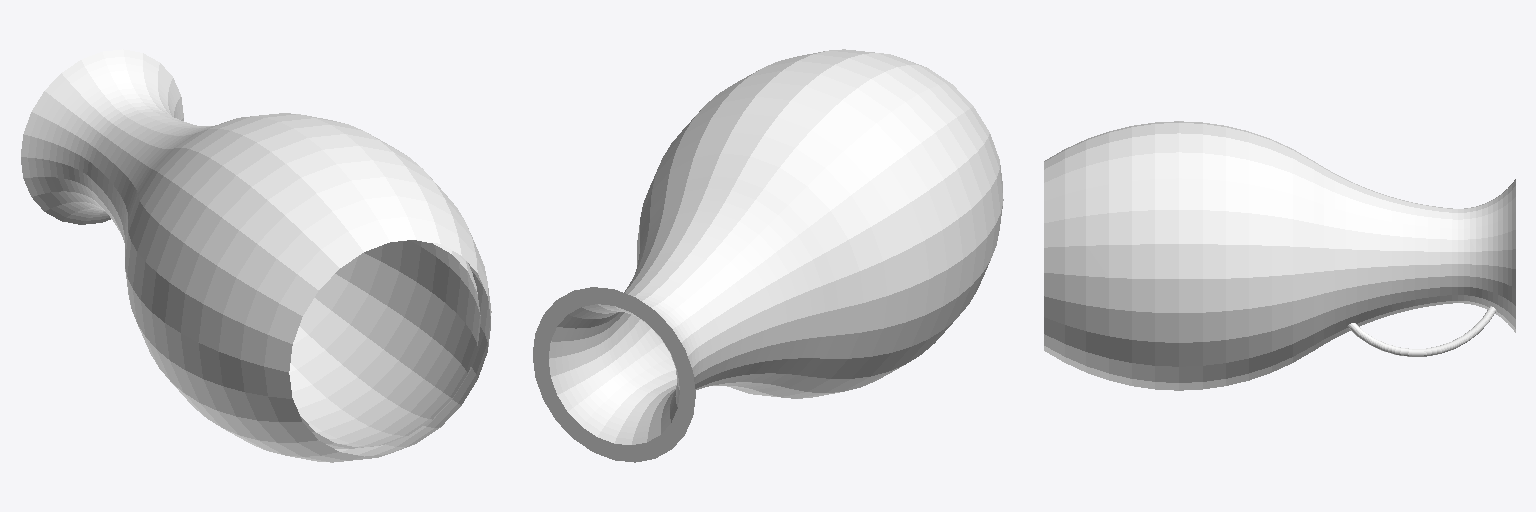
URDF robot description (5cb41c58e0bb0b44deceaec2593e1649):
<robot name="5cb41c58e0bb0b44deceaec2593e1649">
	<link name="_name">
		<visual>
			<origin xyz="0.015713004168289624 0.18046324535949385 -0.01491288898917373" rpy="0 0 0" />
			<geometry>
				<mesh filename="models/model_normalized.obj" scale="1 1 1" />
			</geometry>
			<material name="texture">
				<color rgba="1.0 1.0 1.0 1.0" />
			</material>
		</visual>
		<collision>
			<geometry>
				<mesh filename="models/model_normalized.obj" scale="1 1 1" />
			</geometry>
		<origin xyz="0.015713004168289624 0.18046324535949385 -0.01491288898917373" rpy="0 0 0" /></collision>
		<inertial>
			<mass value="1.0" />
			<inertia ixx="1.0" ixy="0.0" ixz="0.0" iyy="1.0" iyz="0.0" izz="1.0" />
		</inertial>
	</link>
</robot>

--- Facts derived from the render (not from the file) ---
The picture shows the robot from 3 angles, left to right: view 1: azimuth 30°, elevation 25°; view 2: azimuth 150°, elevation 25°; view 3: azimuth 270°, elevation 25°; orthographic projection.
Robot: 5cb41c58e0bb0b44deceaec2593e1649 — 1 links, 0 joints (none); root link _name; default pose: every joint at zero.
Links seen in each view (by area): view 1: _name; view 2: _name; view 3: _name.
Boxes of the visible links, bbox=[...] form: _name: bbox=[21, 49, 491, 462]; _name: bbox=[533, 49, 1003, 462]; _name: bbox=[1044, 121, 1515, 390].
Size in the robot's own frame: 0.4458 by 0.7763 by 0.4458 metres.
1 mesh visuals loaded from 1 distinct referenced files (1 OBJ).